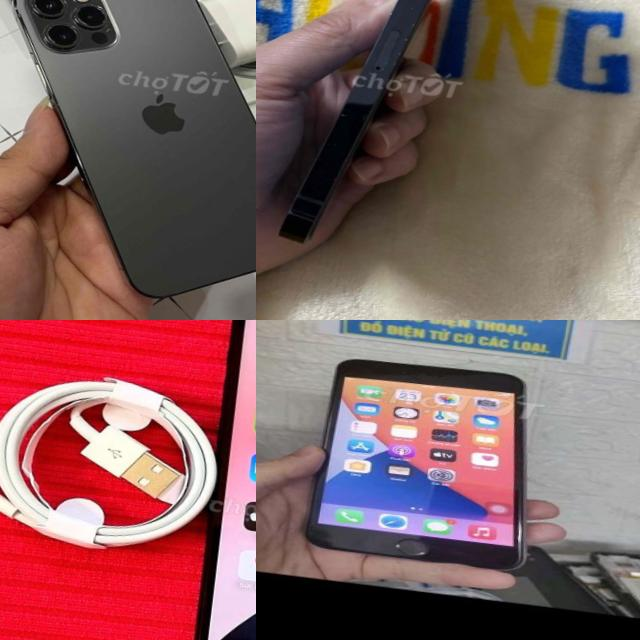scratch: (360, 0, 423, 122)
